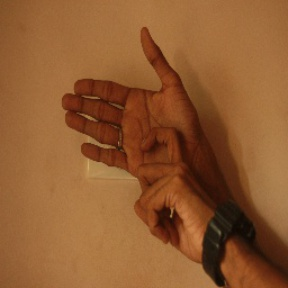R: (62, 22, 212, 238)
